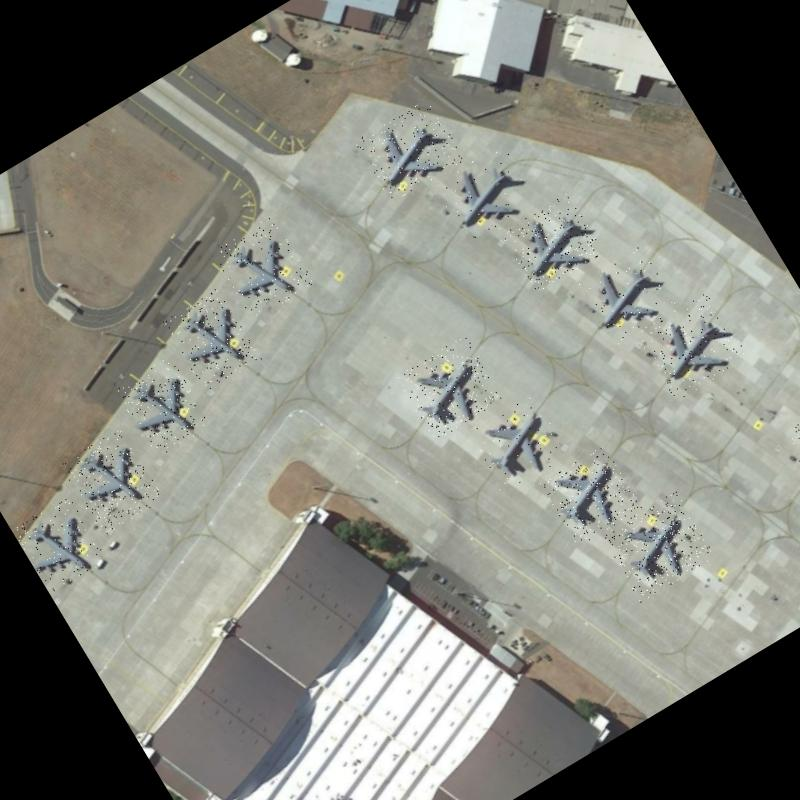A14: (600, 490, 716, 602), (635, 290, 749, 401), (354, 96, 465, 204), (395, 334, 504, 441), (59, 426, 164, 536), (431, 143, 539, 247), (211, 213, 314, 320), (464, 393, 570, 496), (576, 242, 678, 346), (162, 286, 262, 392), (540, 444, 642, 546), (500, 192, 604, 292), (114, 356, 212, 458), (12, 494, 106, 592)
